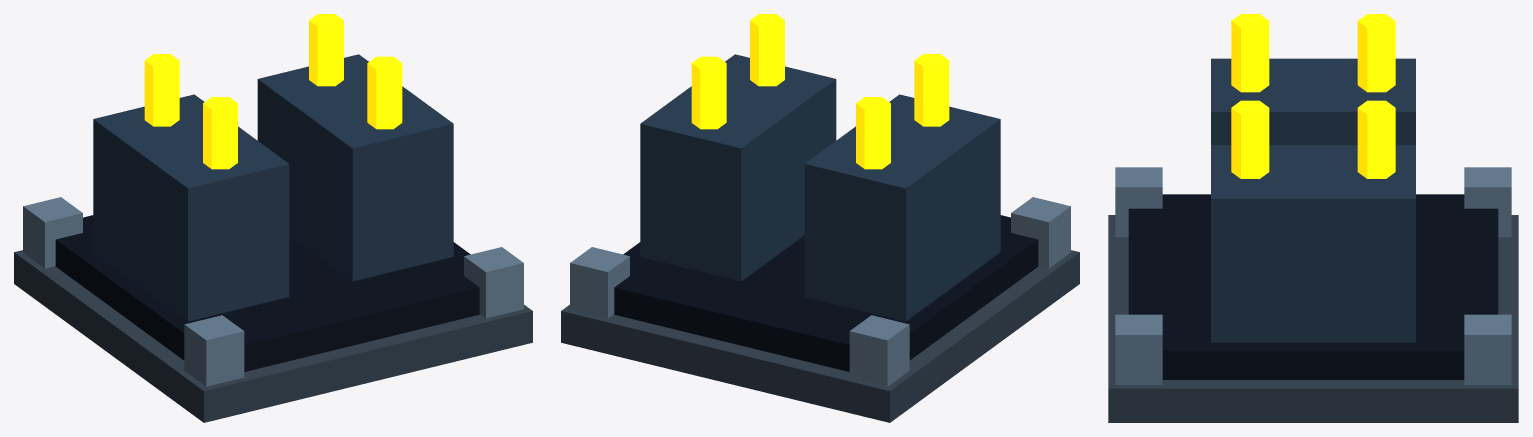
The model's file is substation_low.glb.
3 renders of one model, left to right at view 1: azimuth 30°, elevation 25°; view 2: azimuth 150°, elevation 25°; view 3: azimuth 270°, elevation 25°, orthographic. The views are drawn at different scales.
Parts seen in each view (by area): view 1: Transformer, Transformer.001, Undercarriage, Foundation, Corner lock.001, Corner lock.003, Corner lock, Insulator.003, Insulator, Insulator.001, Insulator.002; view 2: Transformer, Transformer.001, Undercarriage, Foundation, Corner lock, Corner lock.002, Corner lock.001, Insulator.002, Insulator.001, Insulator, Insulator.003; view 3: Transformer.001, Undercarriage, Foundation, Transformer, Corner lock.002, Corner lock.003, Insulator.002, Insulator.003, Insulator, Insulator.001, Corner lock, Corner lock.001.
Part boxes in pixels (box(x1,y1,x2,y2)): Transformer: box(93, 94, 289, 321); Transformer.001: box(257, 54, 453, 281); Undercarriage: box(55, 215, 479, 371); Foundation: box(14, 250, 532, 422); Corner lock.001: box(184, 315, 244, 386); Corner lock.003: box(464, 247, 523, 318); Corner lock: box(23, 197, 82, 268); Insulator.003: box(367, 56, 402, 129); Insulator: box(144, 54, 179, 126); Insulator.001: box(203, 97, 237, 169); Insulator.002: box(309, 14, 343, 86); Transformer: box(804, 94, 1000, 321); Transformer.001: box(640, 54, 836, 281); Undercarriage: box(614, 215, 1038, 371); Foundation: box(561, 250, 1079, 422); Corner lock: box(849, 315, 909, 386); Corner lock.002: box(570, 247, 629, 318); Corner lock.001: box(1011, 197, 1070, 268); Insulator.002: box(691, 56, 726, 129); Insulator.001: box(914, 54, 949, 126); Insulator: box(856, 97, 890, 169); Insulator.003: box(750, 14, 784, 86); Transformer.001: box(1211, 145, 1415, 342); Undercarriage: box(1128, 194, 1498, 379); Foundation: box(1108, 215, 1518, 422); Transformer: box(1211, 58, 1415, 145); Corner lock.002: box(1464, 314, 1511, 384); Corner lock.003: box(1115, 314, 1162, 384); Insulator.002: box(1357, 100, 1395, 178); Insulator.003: box(1231, 100, 1269, 178); Insulator: box(1357, 14, 1395, 92); Insulator.001: box(1231, 14, 1269, 92); Corner lock: box(1464, 167, 1511, 237); Corner lock.001: box(1115, 167, 1162, 237).
Size of the model in its own units: 2.6 by 1.9 by 2.6.
